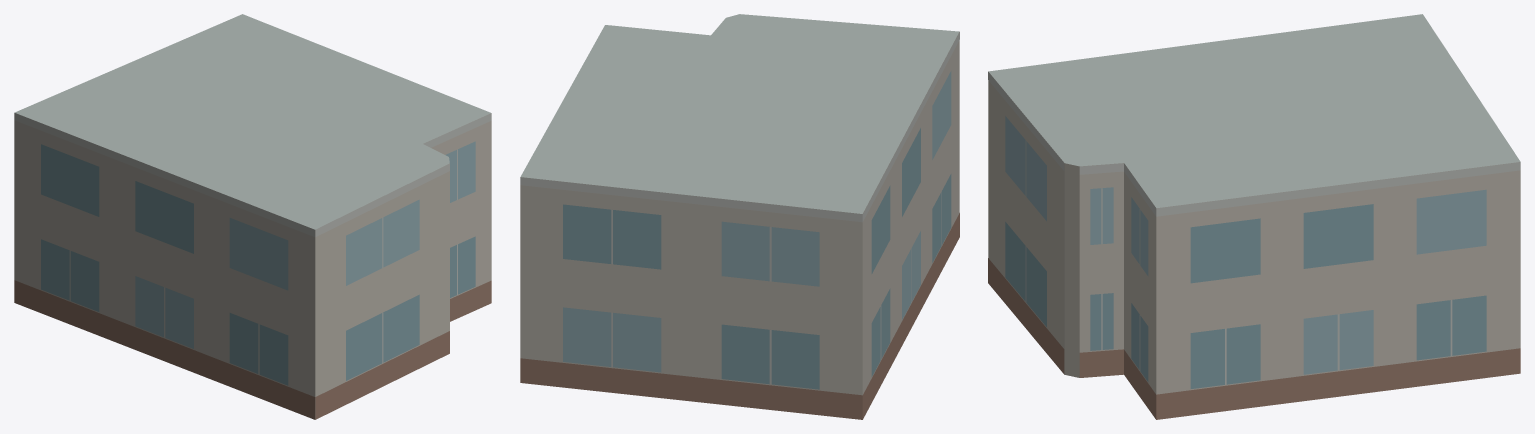
Rendered from survey-upis-32997026.glb.
3 views of the same model, side by side, from view 1: azimuth 30°, elevation 25°; view 2: azimuth 150°, elevation 25°; view 3: azimuth 270°, elevation 25° (orthographic). The views are drawn at different scales.
Visible parts, largest first — view 1: survey-upis-32997026.tmp; view 2: survey-upis-32997026.tmp; view 3: survey-upis-32997026.tmp.
Boxes of the visible parts, x1,y1,x2,y2 form: survey-upis-32997026.tmp: [14, 14, 491, 419]; survey-upis-32997026.tmp: [520, 14, 959, 419]; survey-upis-32997026.tmp: [988, 14, 1520, 419].
Size of the model in its own units: 12.02 by 6.1 by 13.92.
